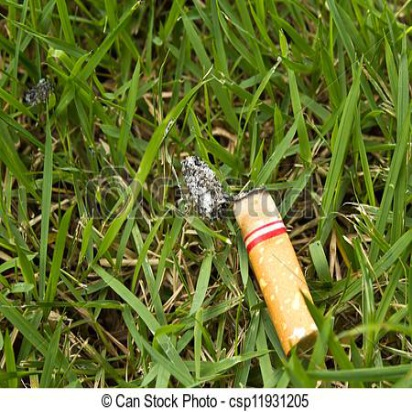cigarette: (224, 181, 327, 358)
